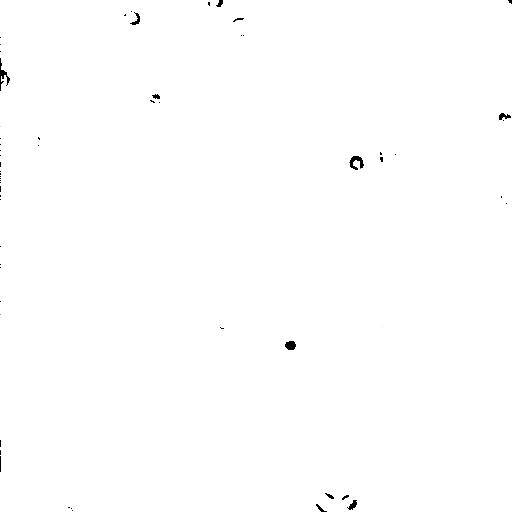micro-algae: (283, 177, 329, 223), (269, 325, 308, 361), (107, 0, 138, 24), (395, 85, 426, 107), (377, 140, 399, 171), (24, 130, 51, 155), (311, 489, 342, 510), (293, 247, 319, 269), (345, 150, 368, 174), (336, 491, 361, 511), (375, 307, 394, 332), (230, 15, 253, 34), (494, 181, 511, 203), (219, 0, 246, 13), (495, 107, 511, 126), (0, 70, 12, 92), (1, 55, 9, 85), (127, 8, 142, 24), (205, 0, 225, 7), (57, 504, 76, 511)
